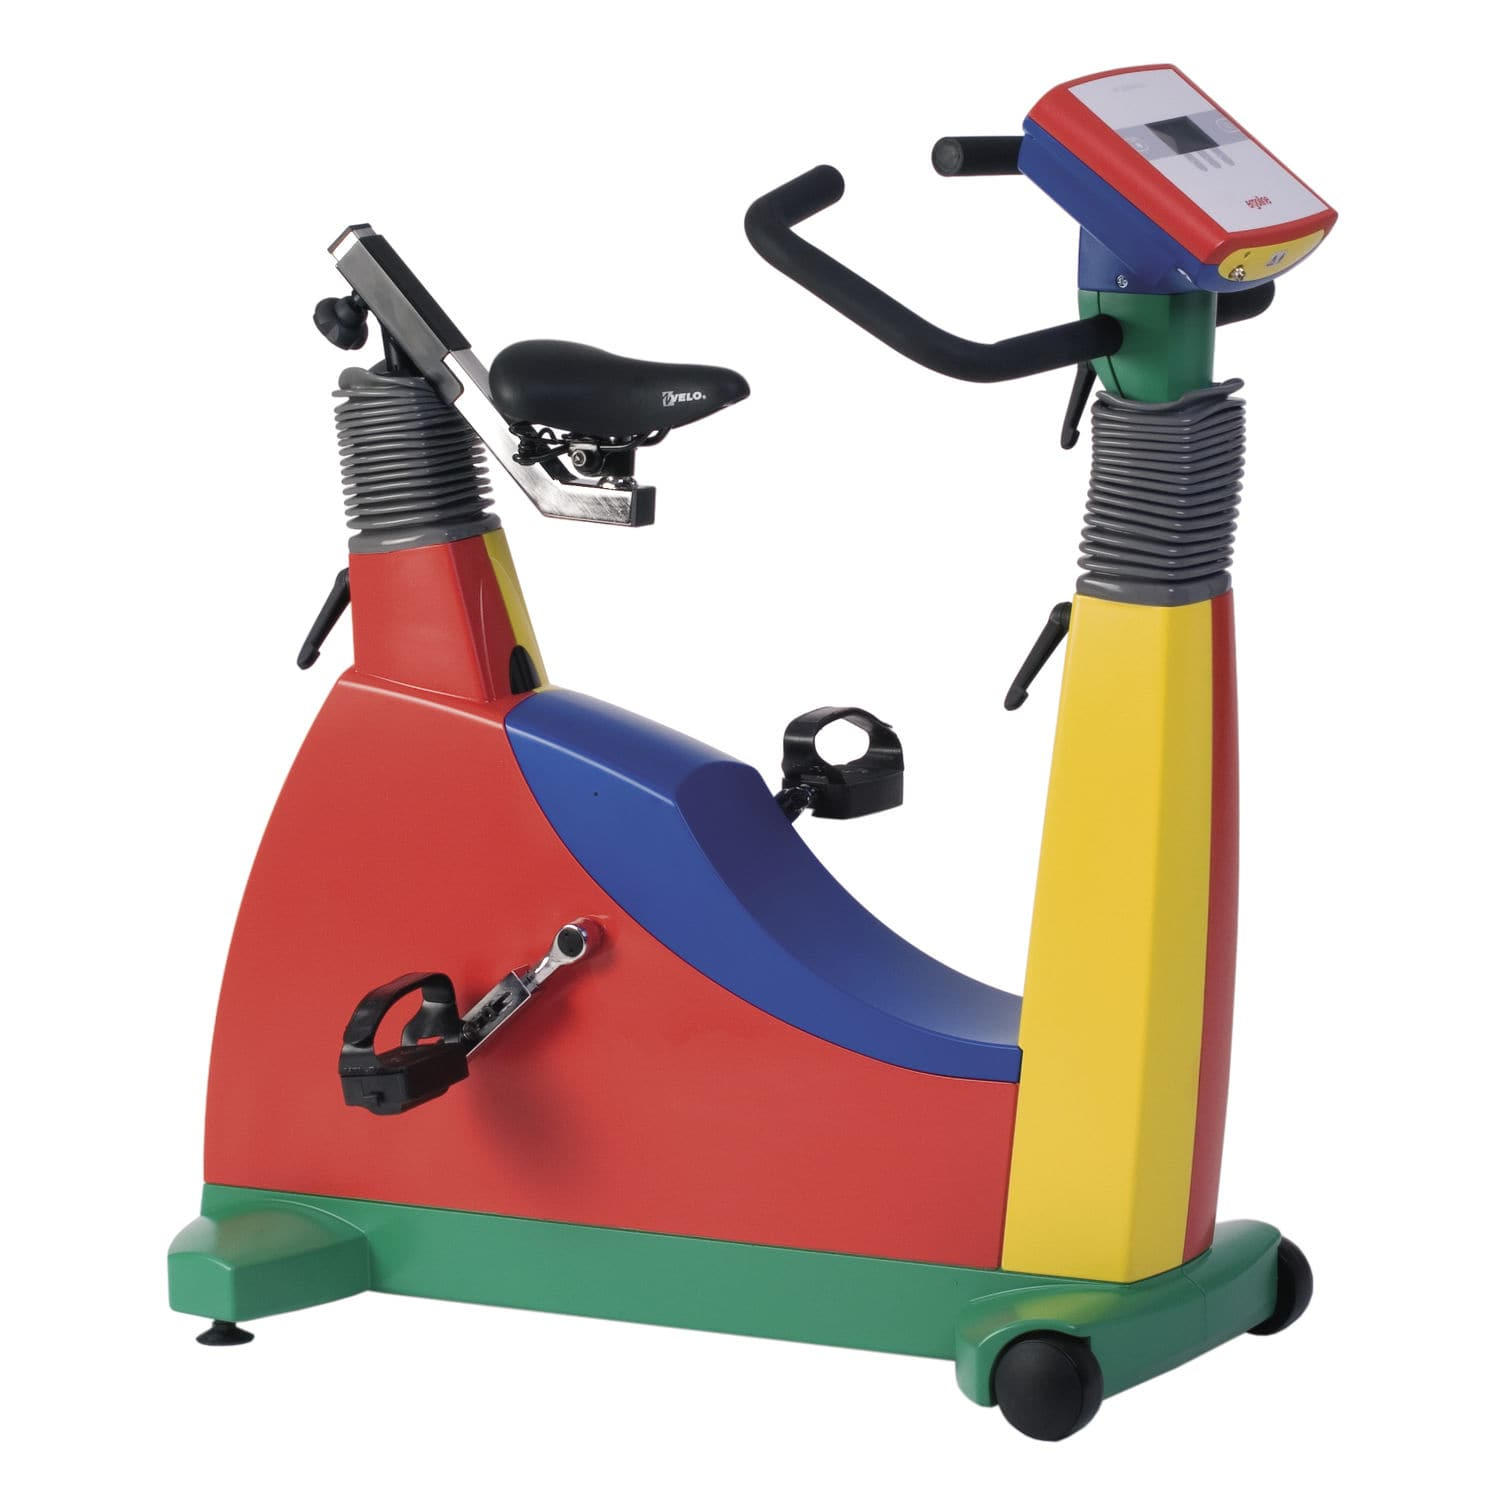gym_bike: (113, 65, 1337, 1420)
